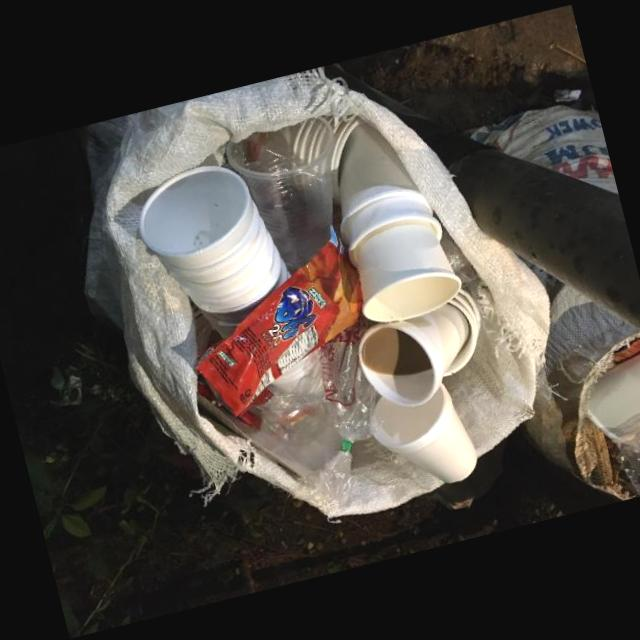bao_bi_thuc_pham: (196, 226, 363, 417)
hop_nhua: (225, 116, 334, 274)
xop: (339, 124, 461, 324), (140, 166, 289, 316), (358, 287, 481, 407), (369, 383, 477, 483)
